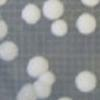white: (25, 54, 51, 80), (18, 1, 43, 28), (72, 69, 99, 94), (37, 0, 65, 22), (75, 11, 97, 38), (0, 39, 19, 63), (48, 17, 68, 38), (16, 81, 38, 100), (32, 80, 52, 99), (36, 70, 57, 87), (0, 17, 9, 46), (78, 0, 100, 10), (0, 0, 9, 10), (57, 95, 74, 100)
